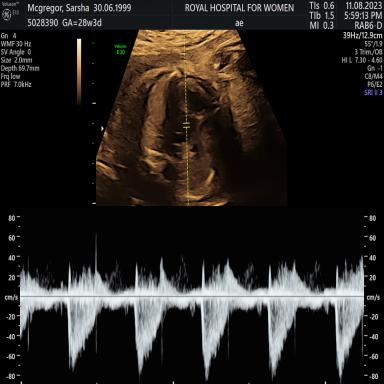Ultrasound-Waves: (26, 216, 360, 384)
